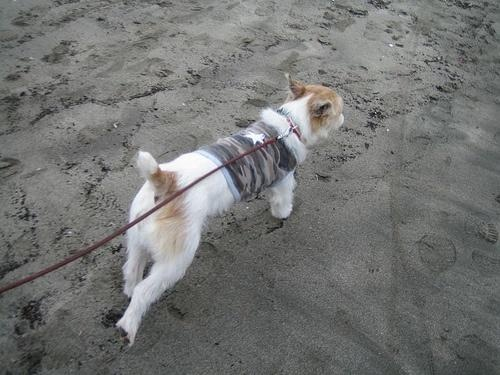dog: (114, 75, 348, 360)
